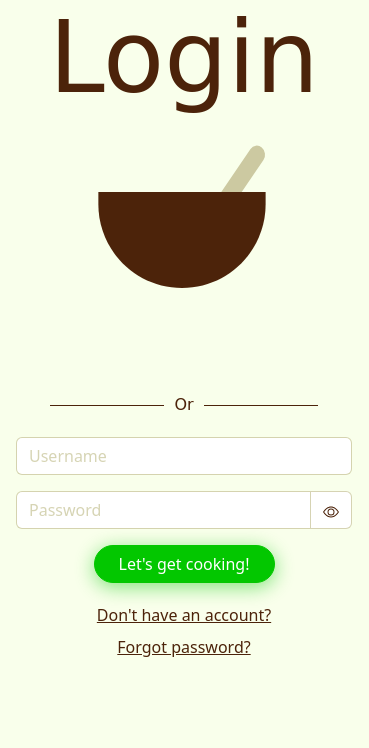
Test case: LoginPage component › should display an error message for incorrect password
// Fill in the form inputs
Type "test" into the field with placeholder "Username" at (184, 456), box [16,437,352,475]
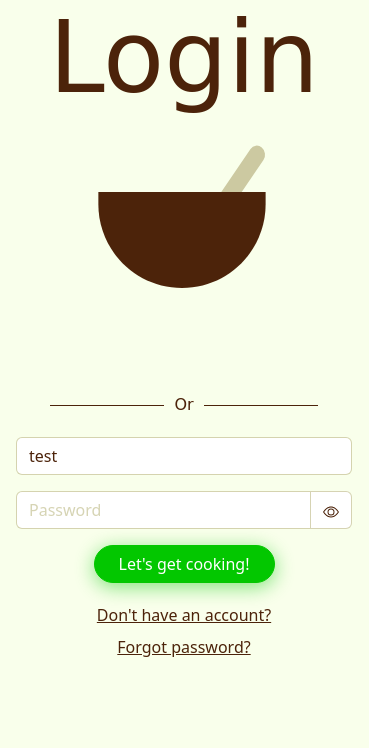
Type "test" into the password field with placeholder "Password" at (164, 510), box [16,491,311,529]
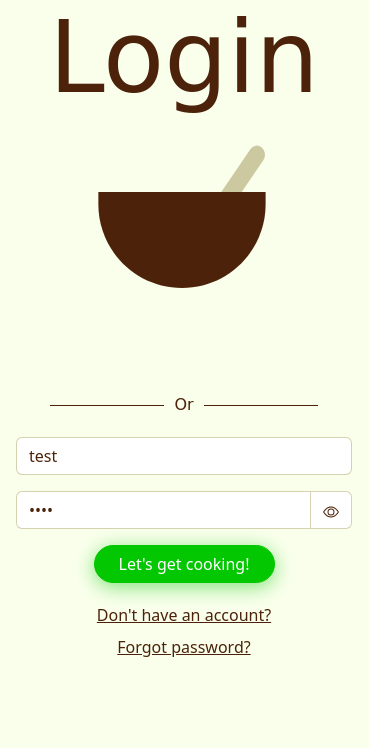
// Submit the form
Click the button "Let's get cooking!" at (184, 564), box [94,545,274,583]
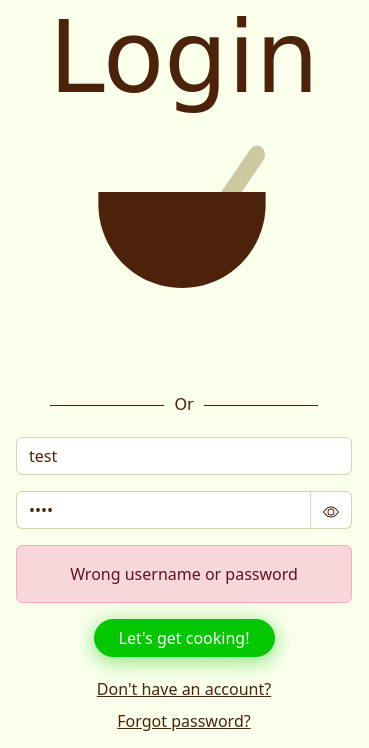
Expected: the text "Wrong username or password" is shown, [16,545,352,603]
